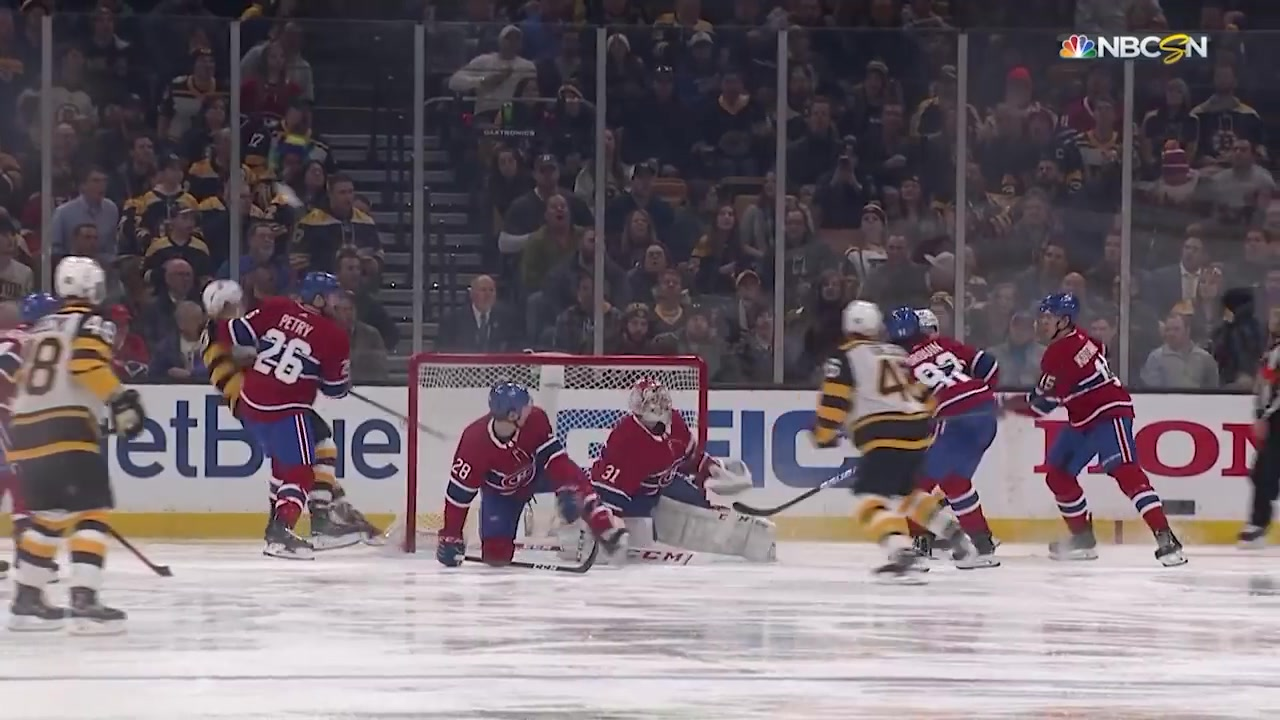geico: (544, 382, 883, 503)
